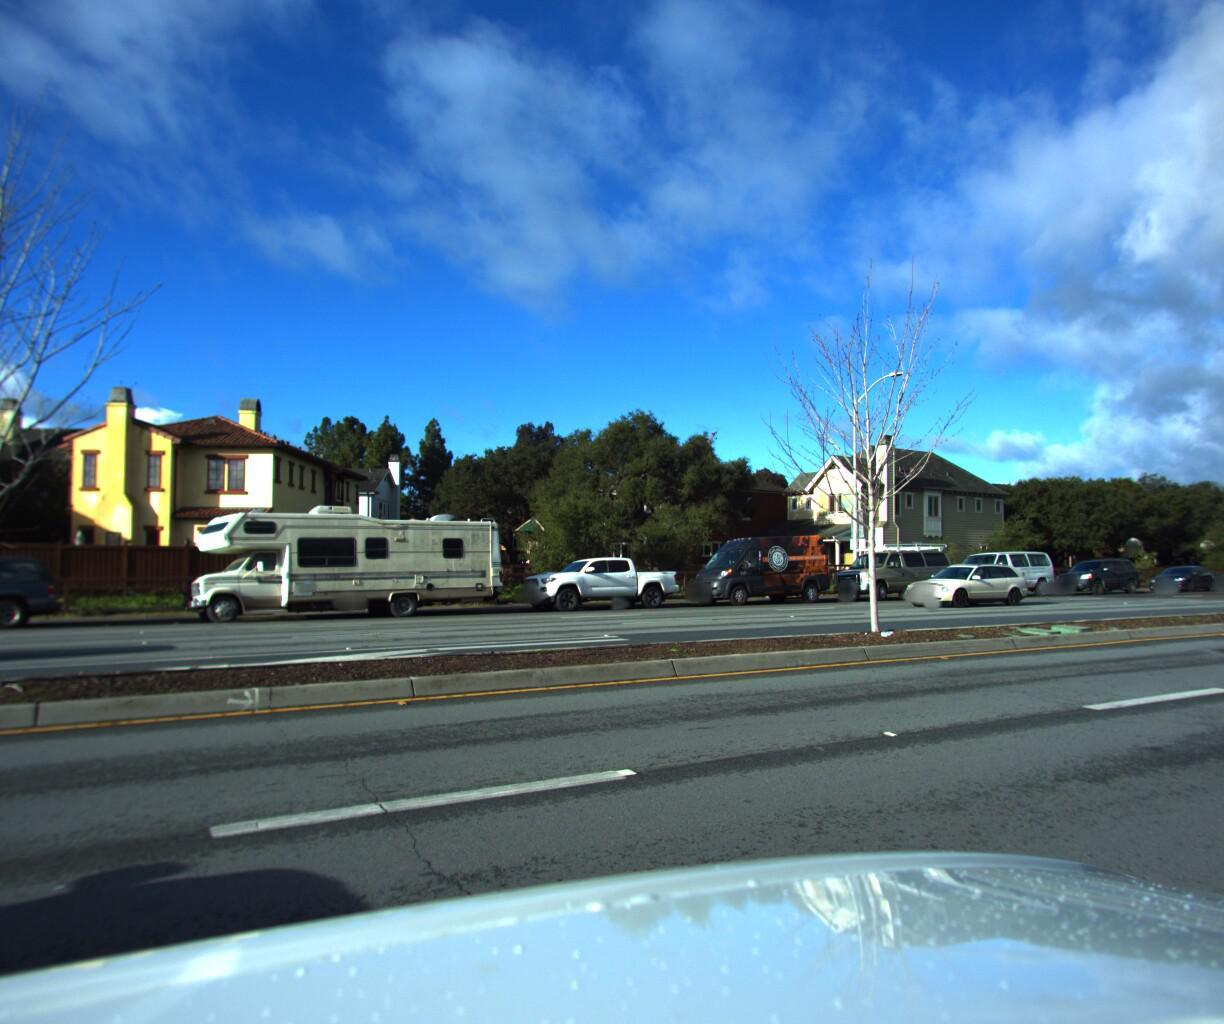car: (675, 526, 832, 603), (507, 551, 686, 613), (819, 534, 957, 598), (890, 557, 1034, 603), (934, 542, 1056, 594), (1040, 550, 1142, 590), (1134, 559, 1216, 588), (1195, 558, 1224, 584)
other_vehicle: (178, 492, 511, 621)
